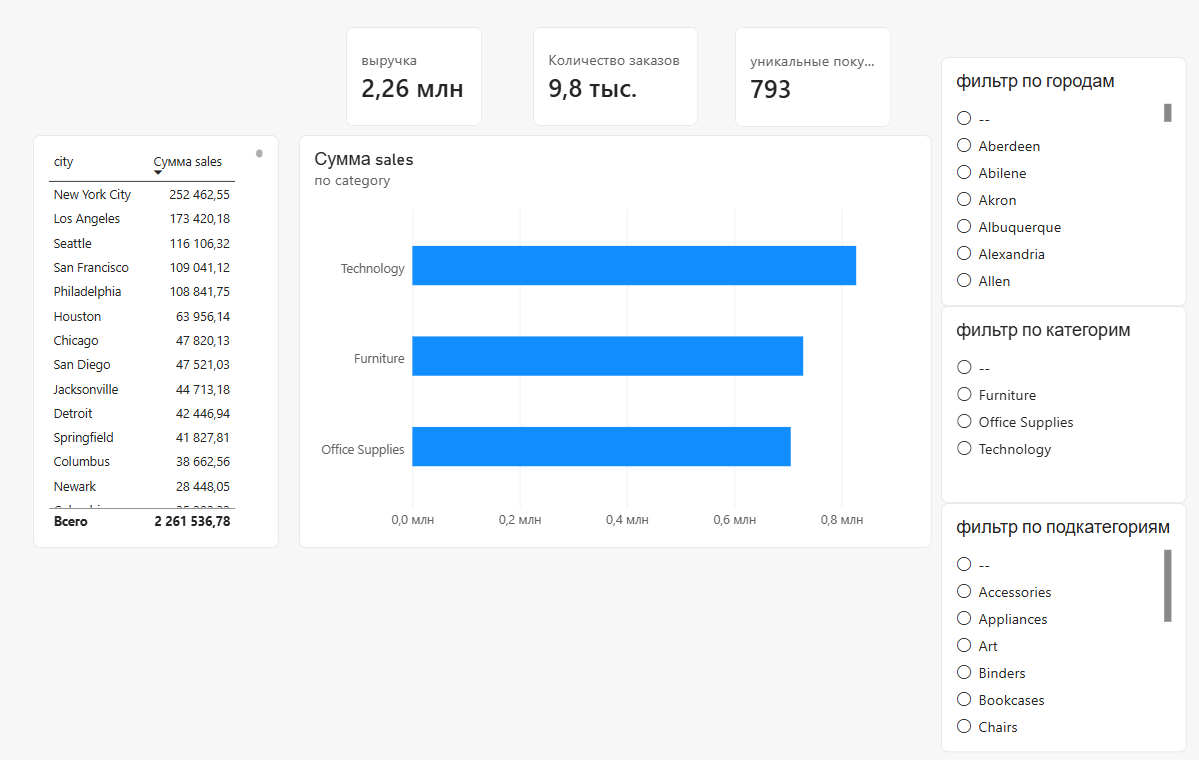

What the dashboard file says about the page in this screenshot:
{"tool":"powerbi","page":{"name":"Страница 1","canvas":[1920,1080],"ordinal":0},"visuals":[{"type":"cardVisual","fields":{"Data":["Sum(public res.sales)"]},"box":[388.9,30,151.7,110.9],"z":0},{"type":"cardVisual","fields":{"Data":["CountNonNull(public res.row_id)"]},"box":[596.7,30,183.8,110.9],"z":1000},{"type":"cardVisual","fields":{"Data":["Count(public res.customer_id)"]},"box":[821.1,30,173.3,111.1],"z":2000},{"type":"tableEx","fields":{"Values":["public geo_ids.city","Sum(public res.sales)"]},"box":[41.1,150,273.3,458.9],"z":2001},{"type":"barChart","fields":{"Category":["public products_type.category"],"Y":["Sum(public res.sales)"]},"box":[336.7,150,703.3,458.9],"z":2002},{"type":"listSlicer","fields":{"Values":["public geo_ids.city"]},"box":[1050,63.3,273,277],"z":2003},{"type":"listSlicer","fields":{"Values":["public products_type.category"]},"box":[1050,340,273.3,218.9],"z":2004},{"type":"listSlicer","fields":{"Values":["public products_type.sub_category"]},"box":[1050,558.9,273,277],"z":2005}]}

Visuals, with their boxes on the page's 1920x1080 design canvas (x1, y1, x2, y2). These are canvas units, not pixel positions in the 1199x760 screenshot, which may show the page scaled, cropped or inside an application window:
cardVisual - Sum(public res.sales): bbox=[389, 30, 541, 141]
cardVisual - CountNonNull(public res.row_id): bbox=[597, 30, 780, 141]
cardVisual - Count(public res.customer_id): bbox=[821, 30, 994, 141]
tableEx - public geo_ids.city x Sum(public res.sales): bbox=[41, 150, 314, 609]
barChart - public products_type.category x Sum(public res.sales): bbox=[337, 150, 1040, 609]
listSlicer - public geo_ids.city: bbox=[1050, 63, 1323, 340]
listSlicer - public products_type.category: bbox=[1050, 340, 1323, 559]
listSlicer - public products_type.sub_category: bbox=[1050, 559, 1323, 836]
